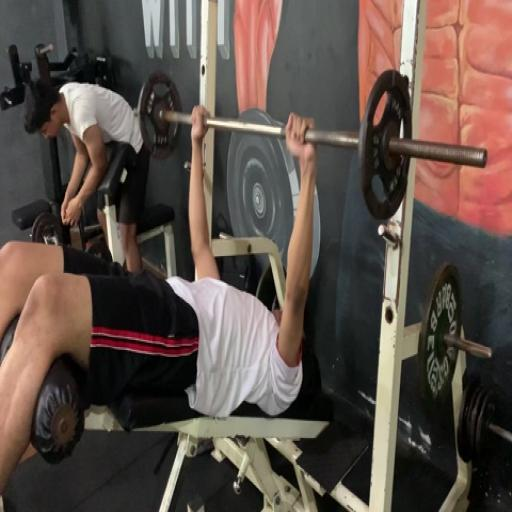exercise: (0, 104, 322, 510)
